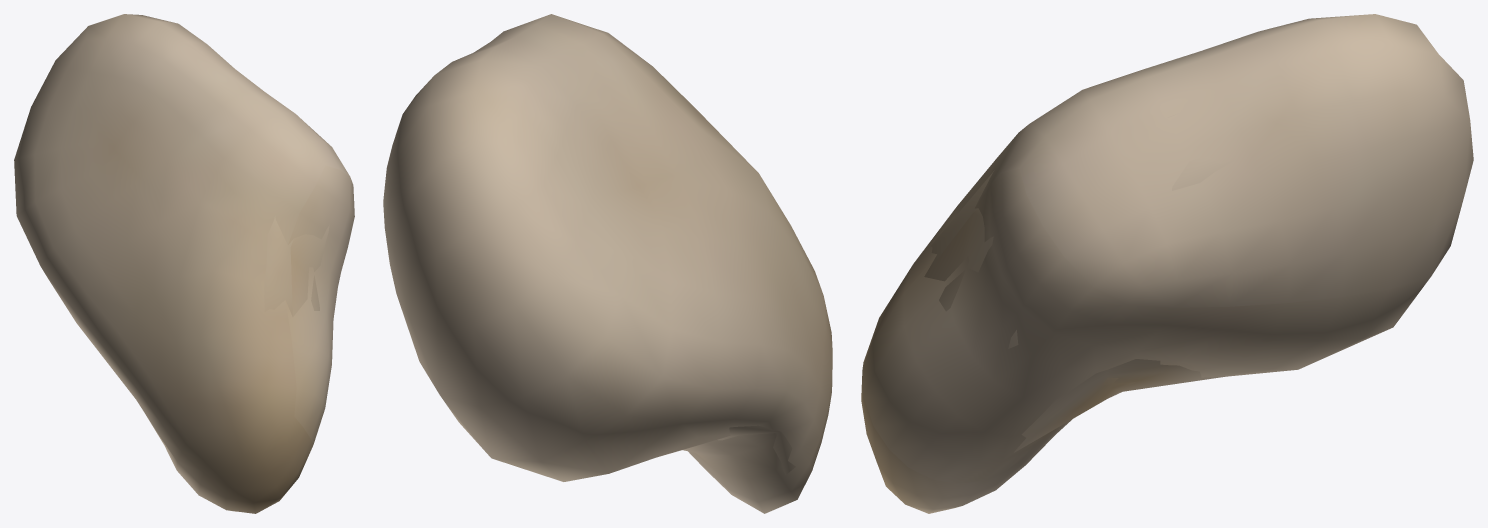
File: L carpi accessorium.fbx
The picture shows the model from 3 angles, left to right: view 1: azimuth 30°, elevation 25°; view 2: azimuth 150°, elevation 25°; view 3: azimuth 270°, elevation 25°; orthographic projection. The views are drawn at different scales.
Visible parts, largest first — view 1: L carpi accessorium, L carpi accessorium low; view 2: L carpi accessorium, L carpi accessorium low; view 3: L carpi accessorium, L carpi accessorium low.
Boxes of the visible parts, box(x1,y1,x2,y2) form: L carpi accessorium: box(14, 14, 354, 513); L carpi accessorium low: box(147, 216, 340, 451); L carpi accessorium: box(383, 14, 832, 513); L carpi accessorium low: box(682, 425, 795, 474); L carpi accessorium: box(861, 14, 1473, 513); L carpi accessorium low: box(924, 112, 1236, 452).
Bounding box in the file's own units: 2.57 × 3.82 × 4.03.
